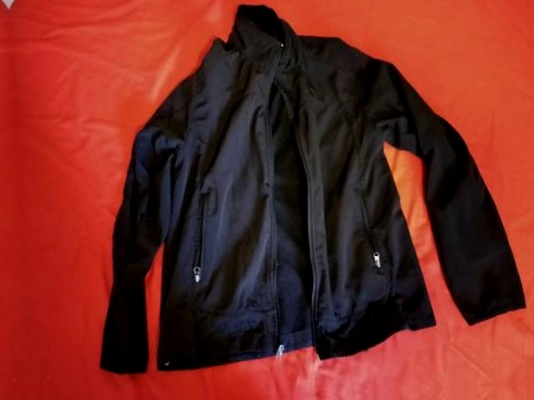Blazer: (68, 3, 528, 391)
